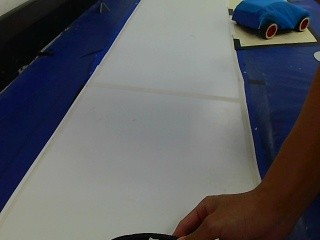car: (227, 0, 316, 42)
